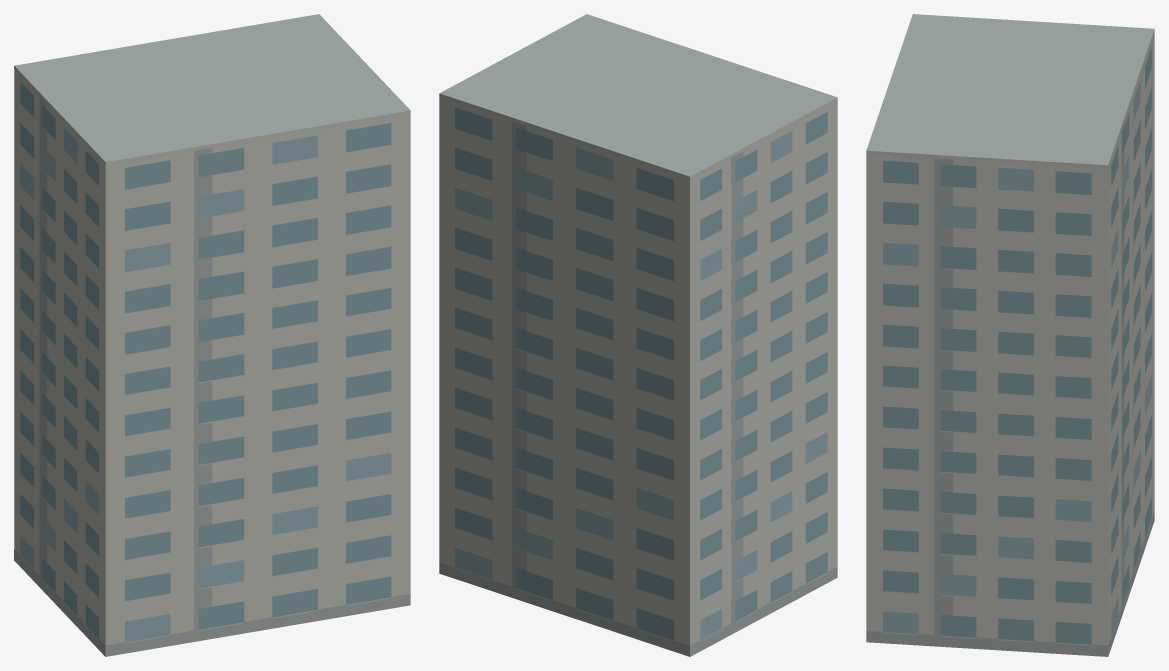
The model's file is residential-b6334cc7-e5b3-4bfc-9821-a214b1843145.glb.
3 views of the same model, side by side, from view 1: azimuth 30°, elevation 25°; view 2: azimuth 150°, elevation 25°; view 3: azimuth 270°, elevation 25° (orthographic). The views are drawn at different scales.
Visible parts, largest first — view 1: residential-b6334cc7-e5b3-4bfc-9821-a214b1843145.tmp; view 2: residential-b6334cc7-e5b3-4bfc-9821-a214b1843145.tmp; view 3: residential-b6334cc7-e5b3-4bfc-9821-a214b1843145.tmp.
Boxes of the visible parts, x1,y1,x2,y2 form: residential-b6334cc7-e5b3-4bfc-9821-a214b1843145.tmp: (14, 14, 410, 656); residential-b6334cc7-e5b3-4bfc-9821-a214b1843145.tmp: (439, 14, 837, 656); residential-b6334cc7-e5b3-4bfc-9821-a214b1843145.tmp: (866, 14, 1154, 656).
Size of the model in its own units: 21.79 by 33 by 17.56.
